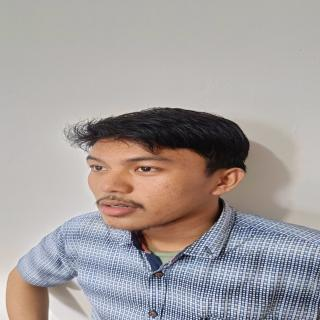Takut: (80, 131, 226, 237)
